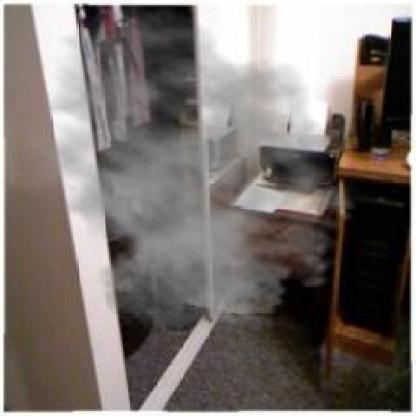Smoke: (10, 1, 370, 340)
